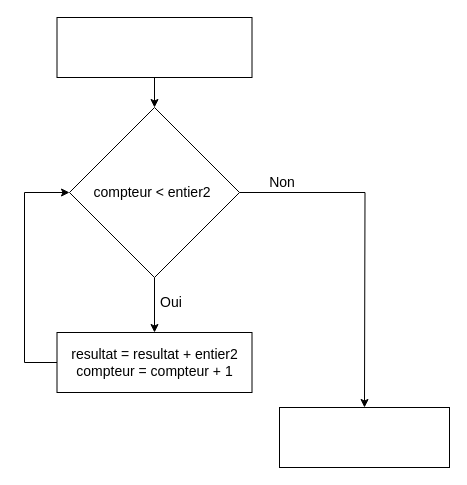
This 467x485 diagram has some shape labels left out. The shapes that lost their labels are listed below. From the top down, each one's centre as x and y in pixels, then its label:
At (154,47): "compteur = 0 resultat = 0".
At (364,437): "Retourner resultat".
